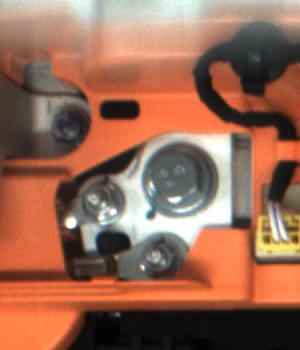nut_b: (142, 144, 214, 216)
